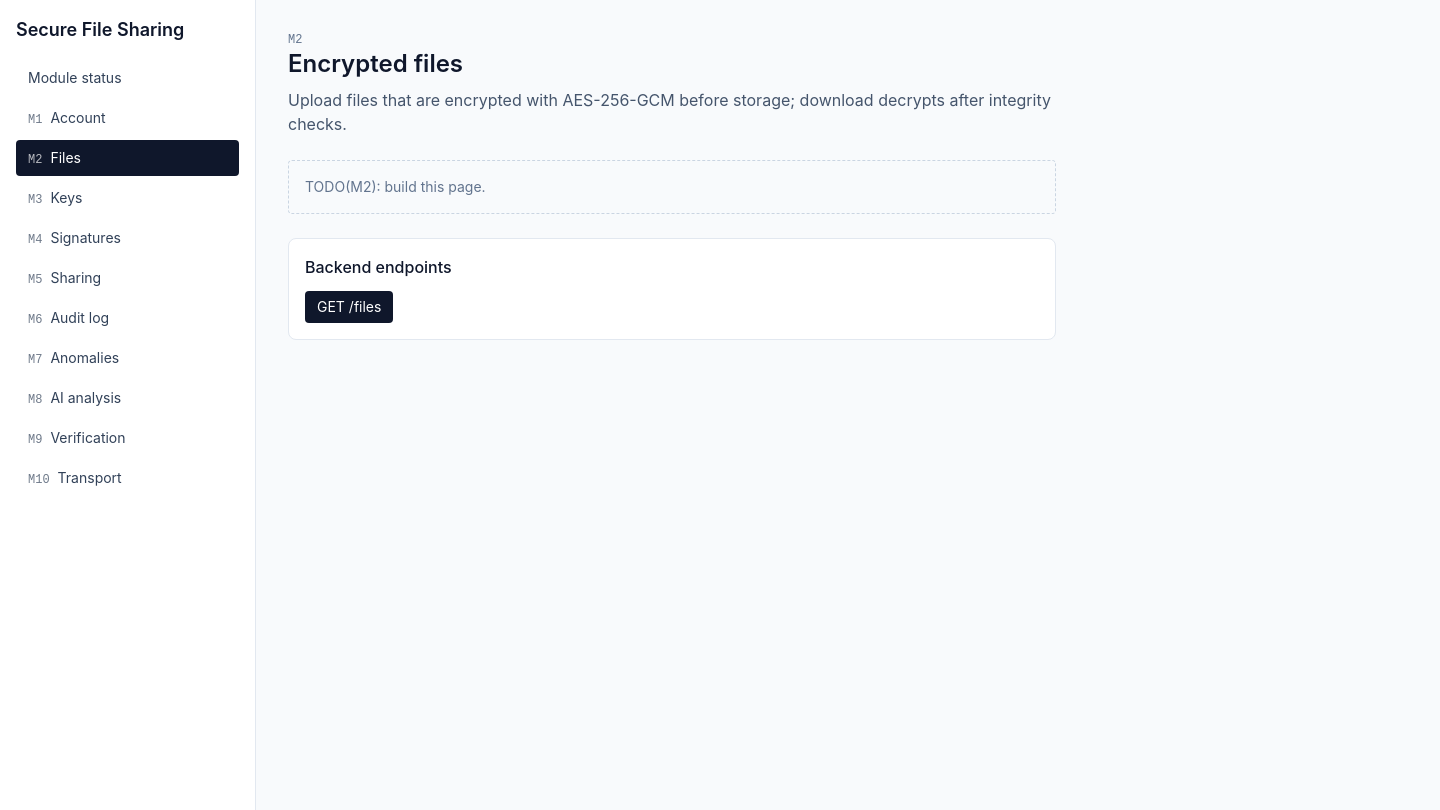
Scenario: App › surfaces an honest 501 from an unimplemented module
Click the button "GET /files": (349, 307) [305,291,393,323]
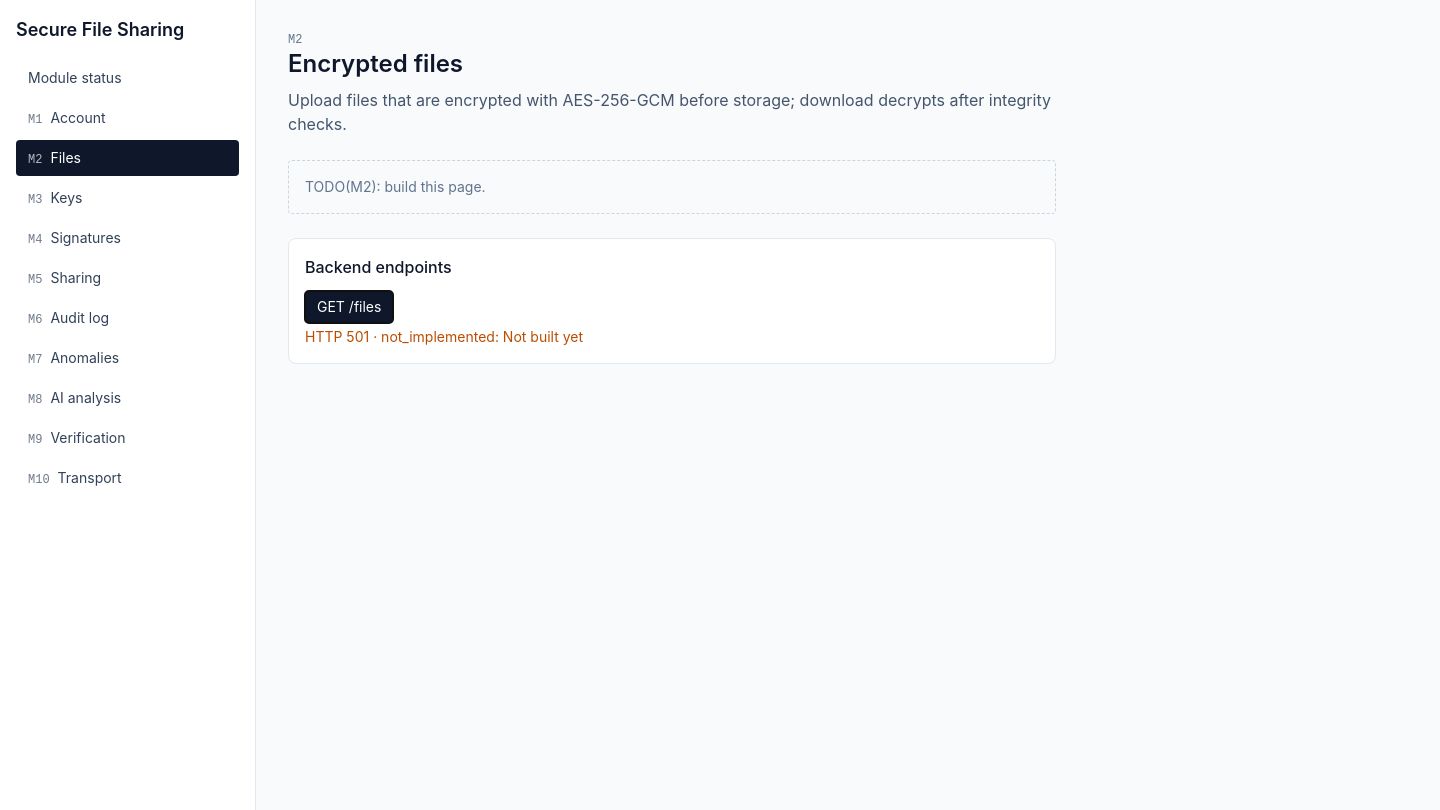
Expected: the message shows "HTTP 501 · not_implemented", [305,328,583,345]
